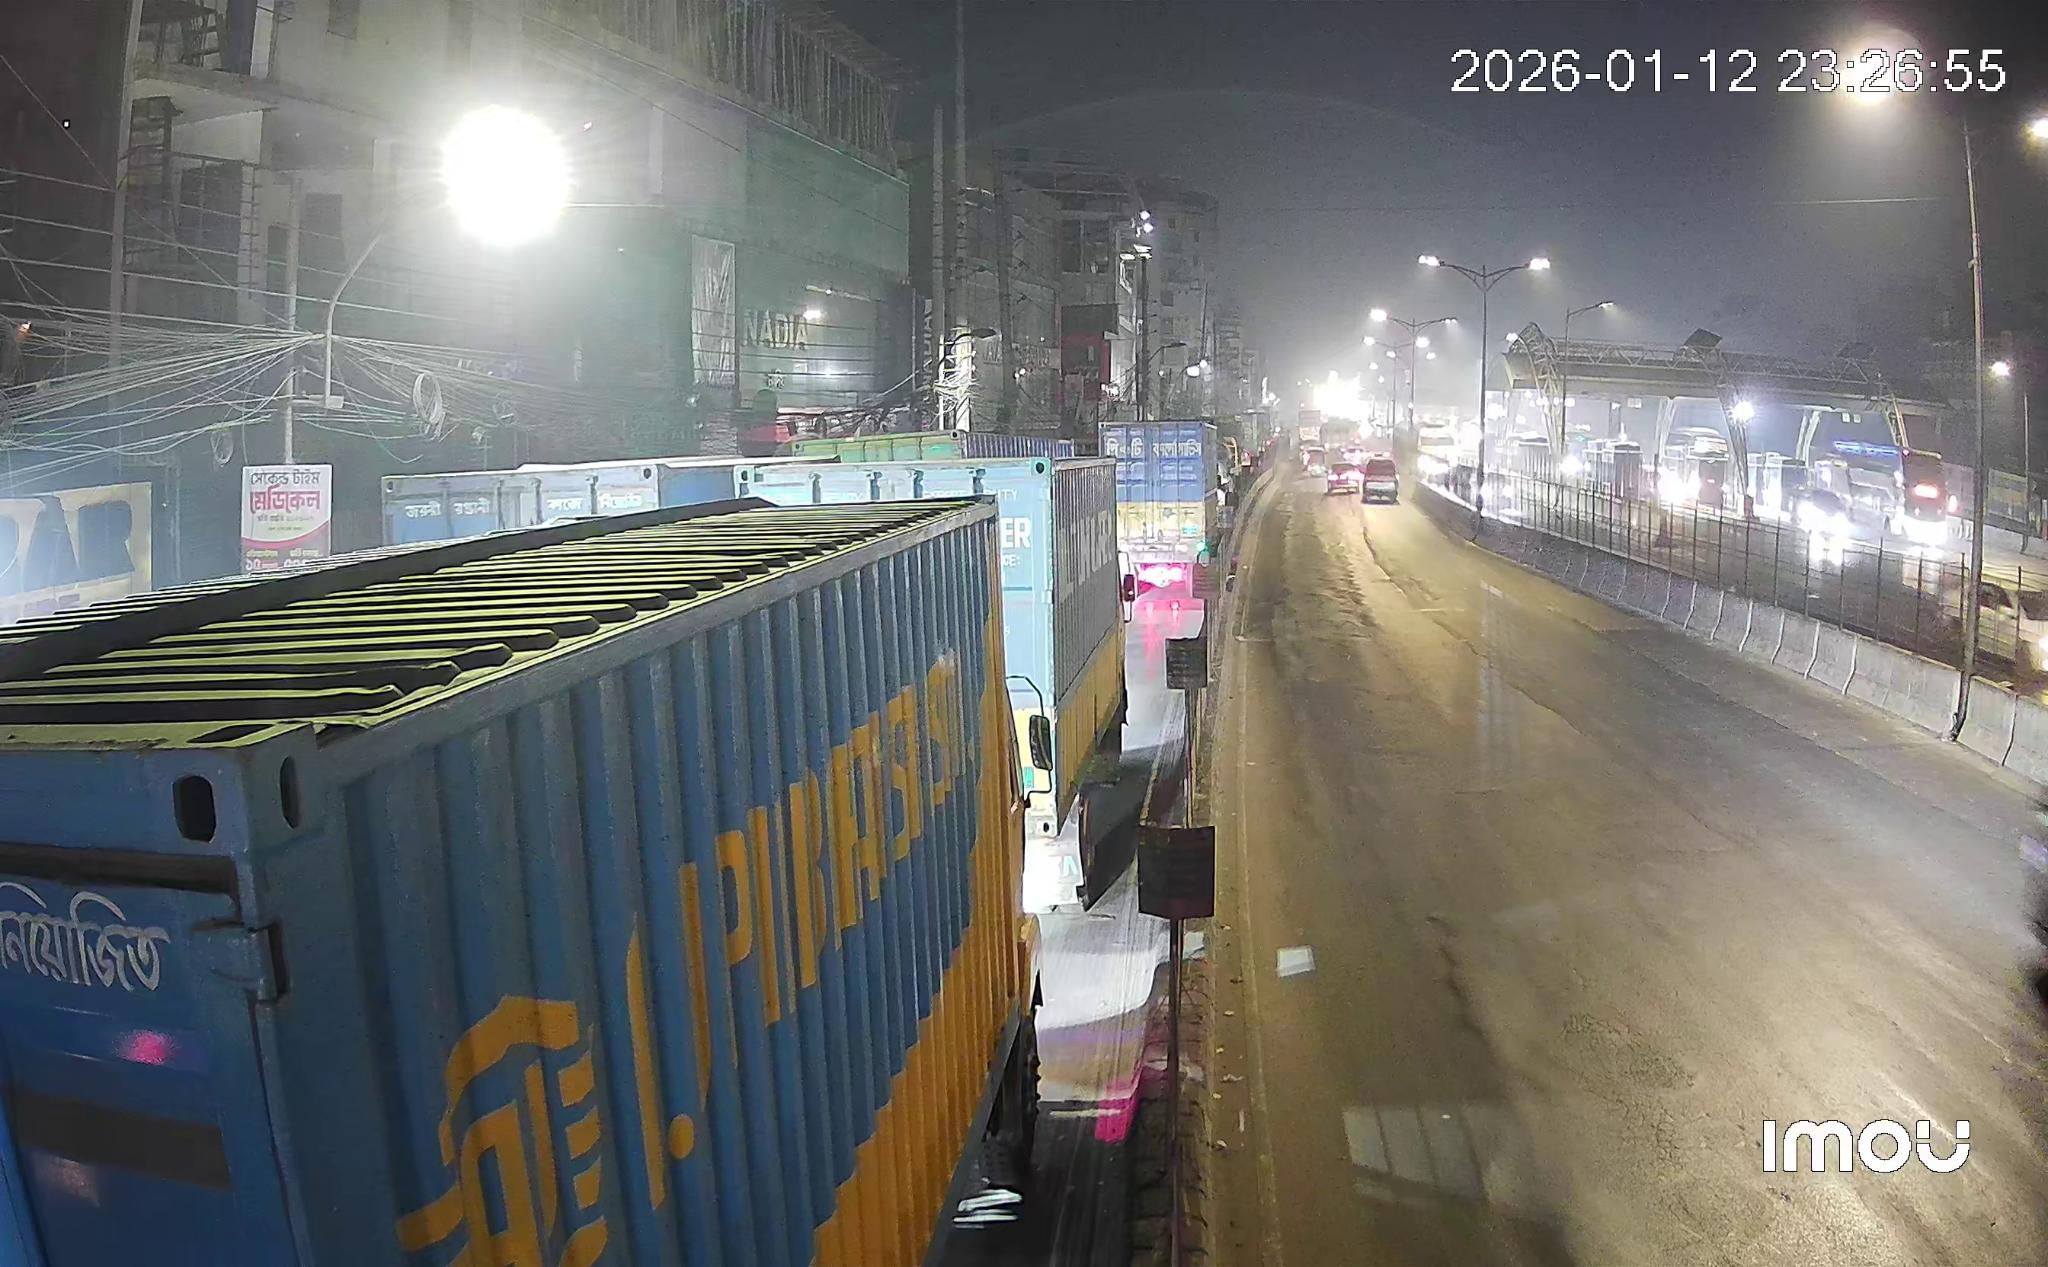Private-Sedan Car: (1978, 563, 2047, 676), (1940, 576, 1966, 639)
Truck: (0, 495, 1039, 1267), (736, 456, 1129, 910), (1102, 420, 1221, 604)
